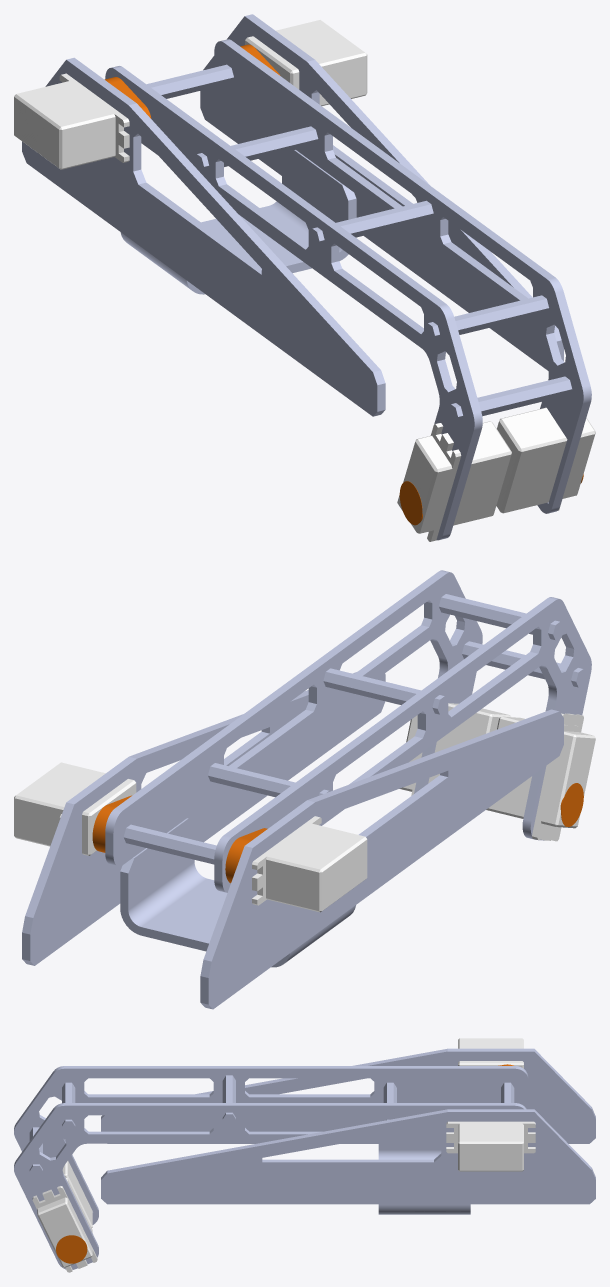
Rendered from God_Turret_Assembly_Changed_Arm_FBX.fbx.
The picture shows the model from 3 angles, top to bottom: view 1: azimuth 30°, elevation 25°; view 2: azimuth 150°, elevation 25°; view 3: azimuth 270°, elevation 25°; orthographic projection. The views are drawn at different scales.
Parts seen in each view (by area): view 1: Body1 (×9), Body2 (×2), Body6, Body4, Body5, Body3; view 2: Body1 (×11), Body2 (×2), Body6, Body3, Body4, Body5; view 3: Body1 (×8), Body6, Body2, Body3, Body4.
Boxes of the visible parts, left/top/right/bottom form: Body1 (×9): left=14, top=14, right=595, bottom=541; Body2 (×2): left=22, top=57, right=385, bottom=416; Body6: left=105, top=66, right=482, bottom=540; Body4: left=425, top=295, right=548, bottom=341; Body5: left=448, top=376, right=572, bottom=422; Body3: left=310, top=200, right=433, bottom=246; Body1 (×11): left=14, top=570, right=595, bottom=967; Body2 (×2): left=200, top=709, right=563, bottom=1009; Body6: left=214, top=597, right=591, bottom=892; Body3: left=323, top=668, right=446, bottom=714; Body4: left=439, top=594, right=562, bottom=640; Body5: left=462, top=641, right=585, bottom=687; Body1 (×8): left=14, top=1038, right=595, bottom=1272; Body6: left=14, top=1066, right=528, bottom=1224; Body2: left=101, top=1048, right=595, bottom=1143; Body3: left=222, top=1075, right=235, bottom=1124; Body4: left=62, top=1082, right=75, bottom=1131.
Size of the model in its own units: 5.92 by 4.49 by 13.89.
